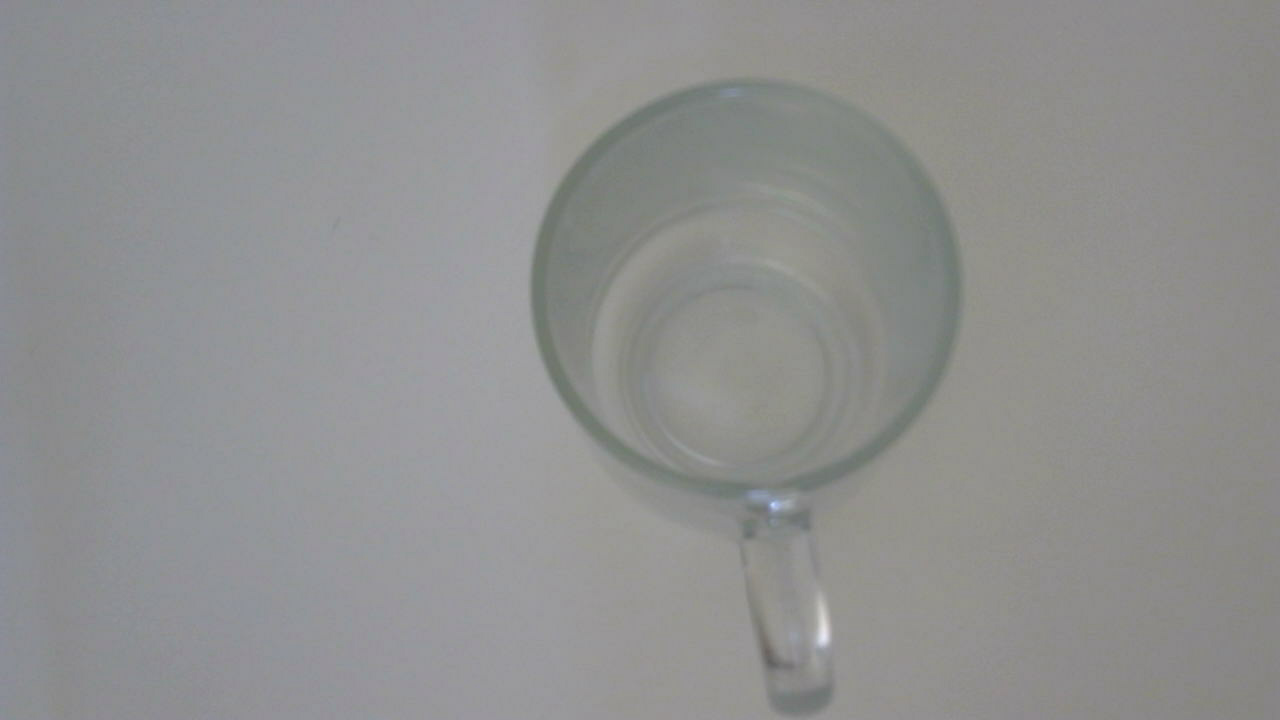Glass: (519, 64, 973, 716)
